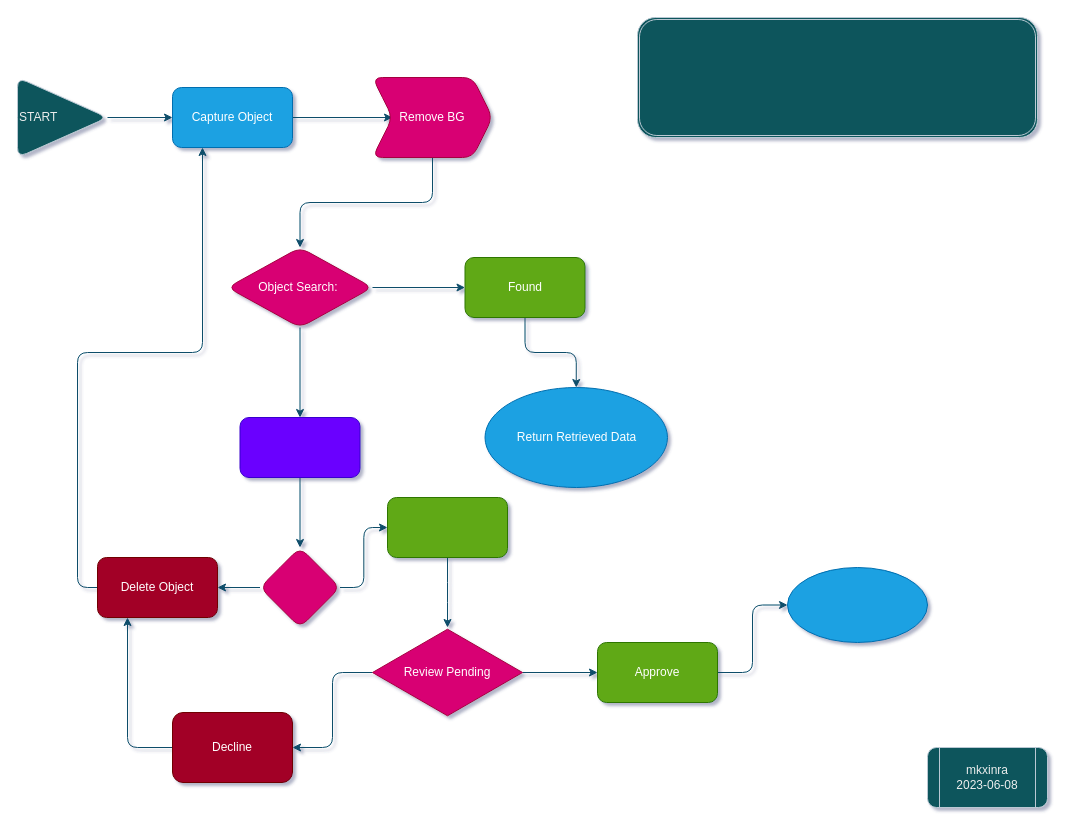
This 1071x831 diagram has some shape labels left out. Each missing label, with the centre of its shape:
"Input Object Data" belongs at (447,527).
"Not Found" belongs at (299,447).
"PROJECTIFY FLOW DIAGRAM" belongs at (837,77).
"Prompt:" belongs at (299,587).
"Update Database" belongs at (857,604).
